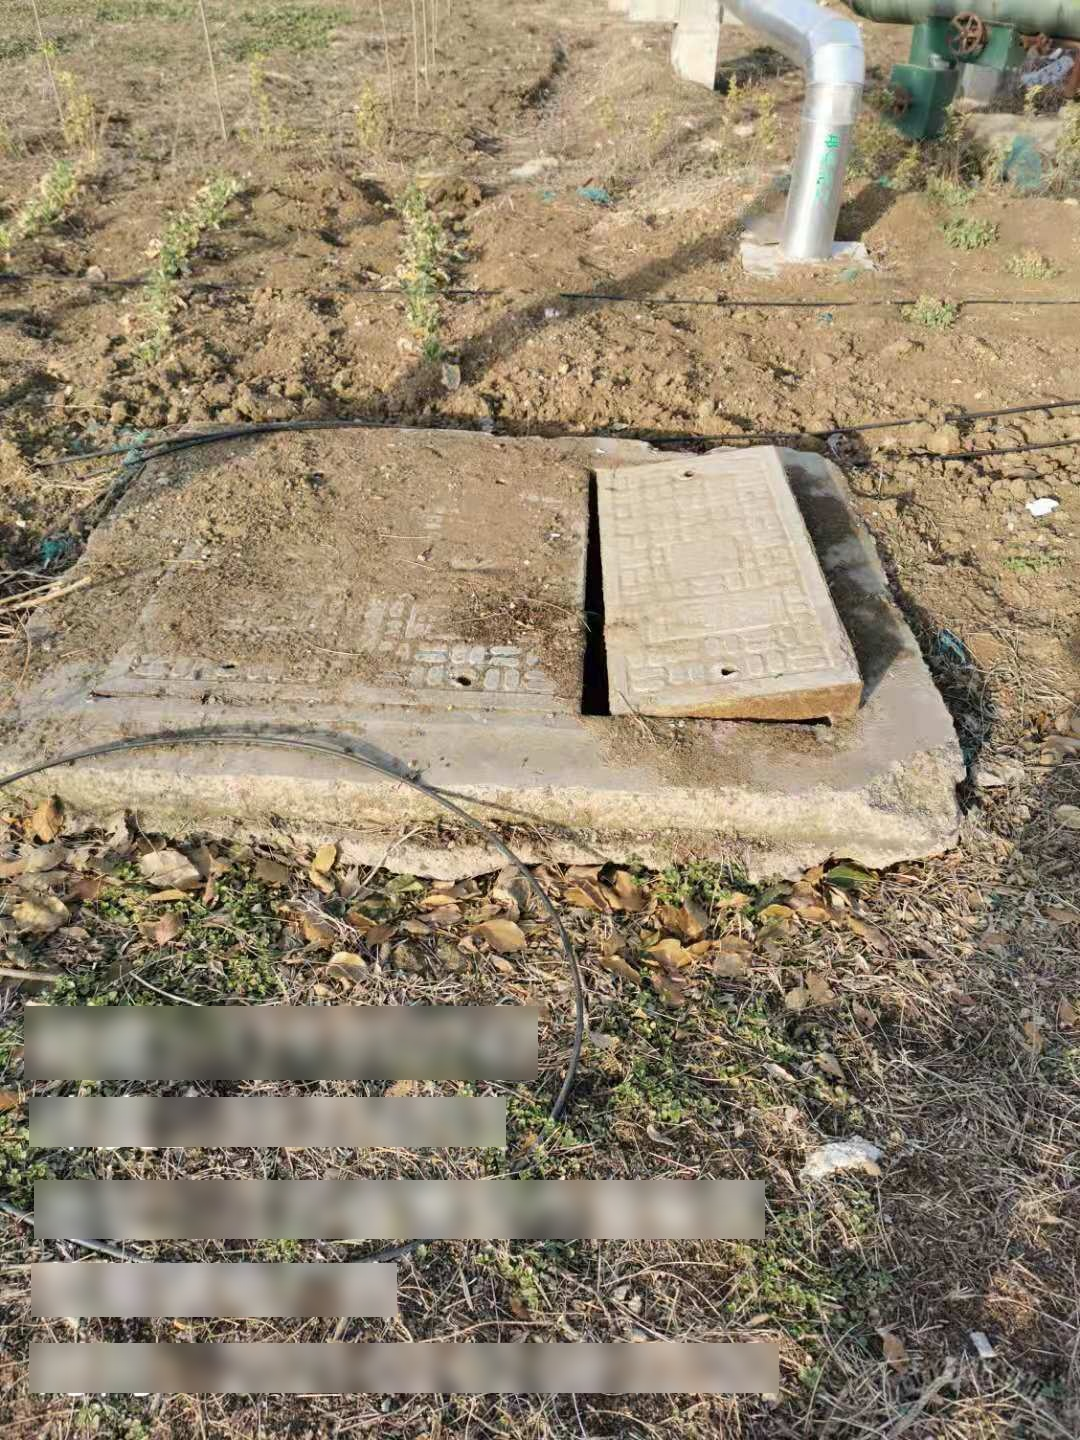uncovered: (88, 433, 864, 736)
